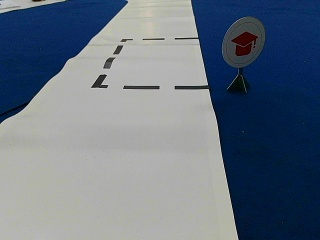school: (221, 17, 264, 67)
